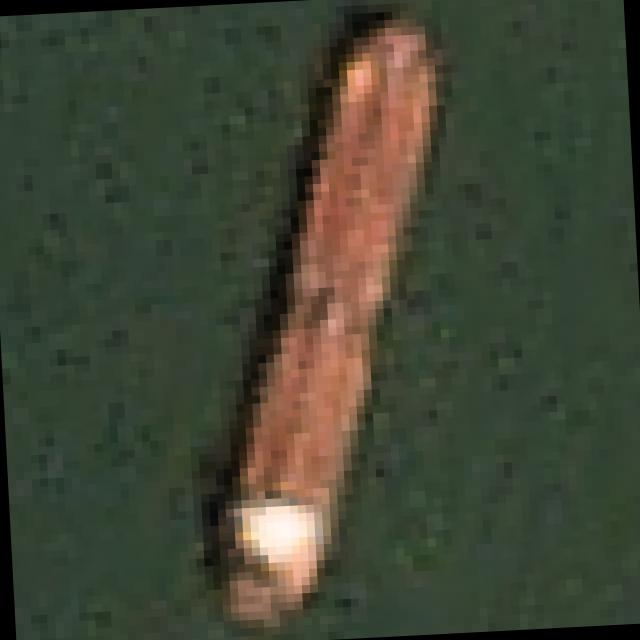ship: (150, 1, 482, 632)
